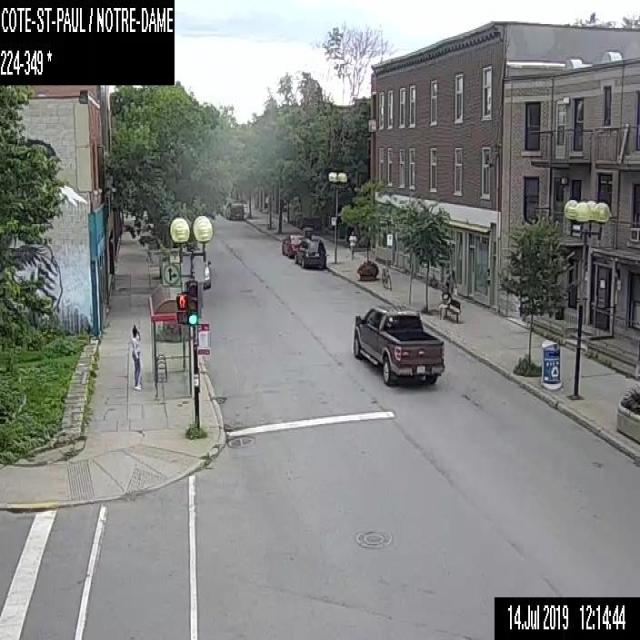pedestrian: (130, 323, 141, 390), (438, 286, 450, 320), (348, 231, 356, 260)
vehicle: (352, 304, 445, 385), (295, 238, 326, 268), (190, 250, 211, 288), (280, 234, 304, 256), (224, 201, 243, 220)
